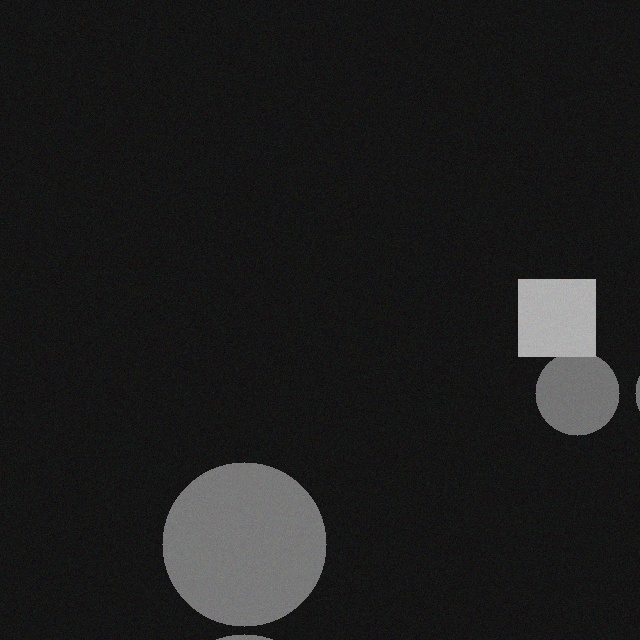circle: (174, 471, 338, 635), (547, 360, 631, 444)
square: (530, 288, 607, 365)
